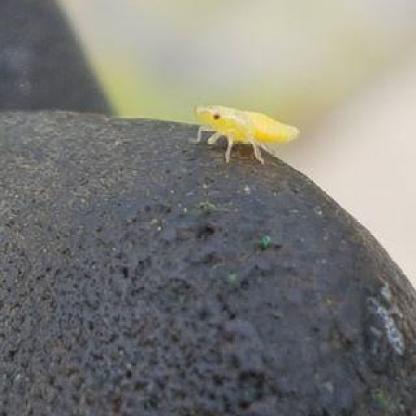green-leafhopper: (192, 102, 298, 162)
